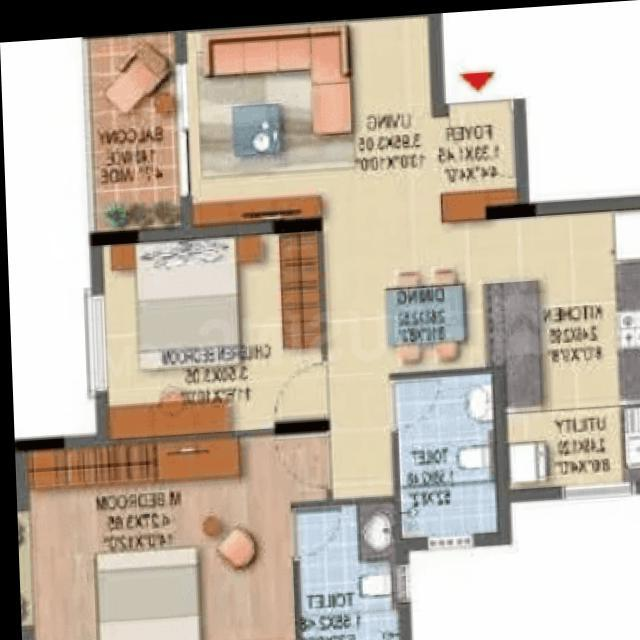Balcony-Sitout: (83, 27, 179, 224)
Bedroom: (100, 223, 319, 427)
Bedroom with Toilet: (21, 421, 399, 640)
Dining: (375, 260, 473, 372)
Enterance-Foyer: (435, 64, 523, 216)
Kitchen: (495, 211, 640, 406)
Living: (180, 11, 435, 211)
Toilet: (393, 374, 489, 532), (295, 499, 391, 640)
Utility: (496, 406, 640, 485)
